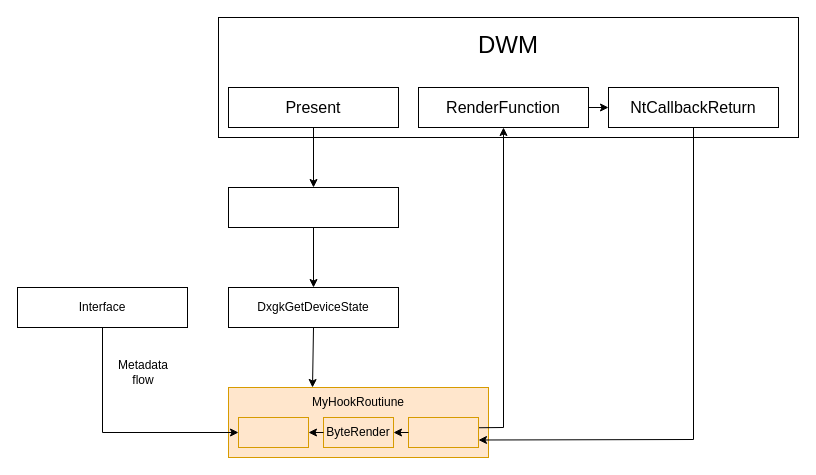
This 816x475 diagram has some shape labels left out. Here are the shapes that lost their labels. From the top down, the centre of each, then its label:
pixel 313 207: NtGdiDdDDIGetDeviceState
pixel 273 432: Metadata Render
pixel 443 432: DX11 Caller
